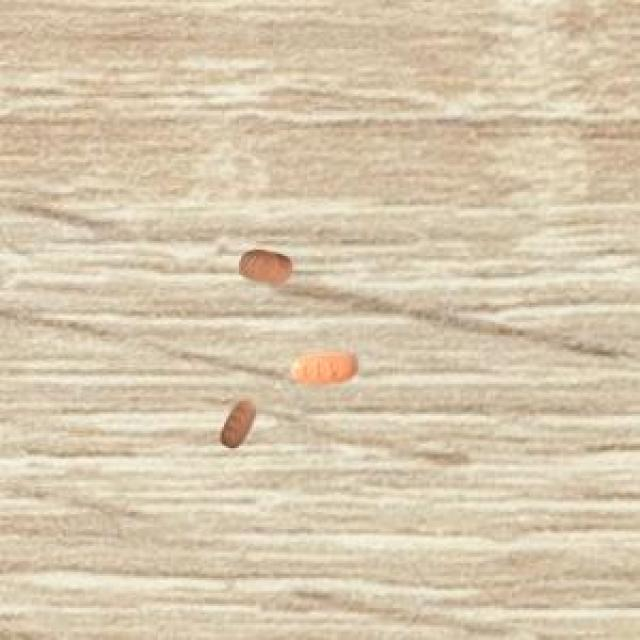Biogesic: (223, 236, 310, 300), (282, 337, 372, 395), (210, 385, 266, 460)
